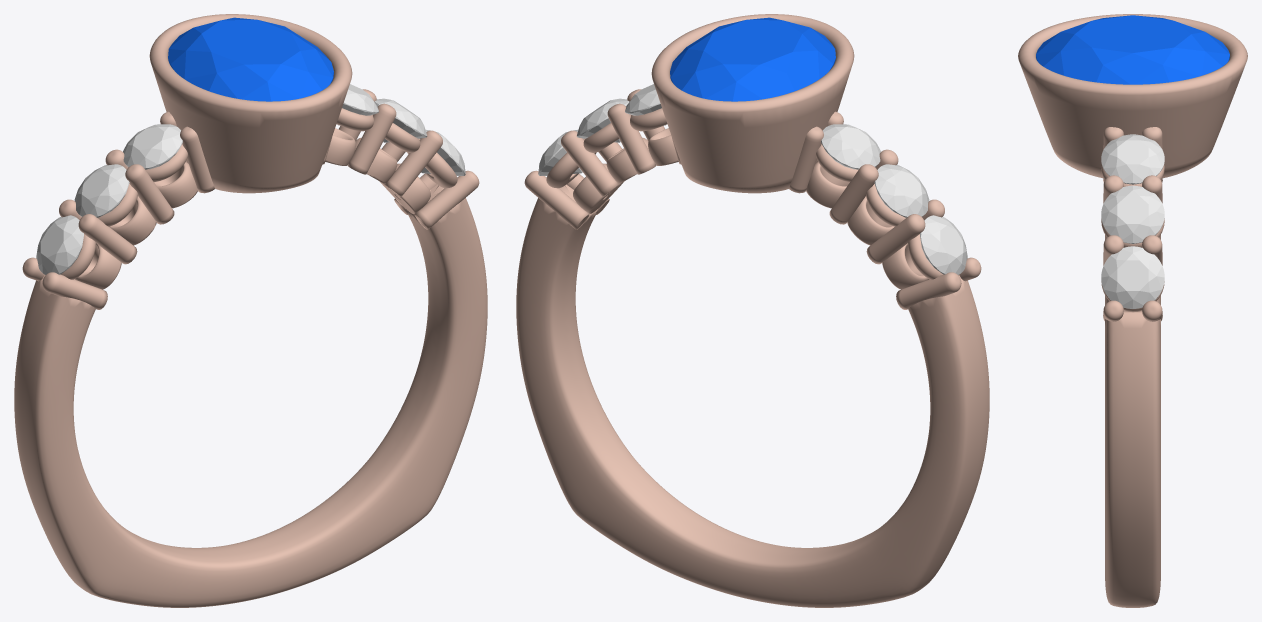
The model's file is bluesapphire-oval-rosegold-bezelset-europeanshank-7stone.glb.
3 views of the same model, side by side, from view 1: azimuth 30°, elevation 25°; view 2: azimuth 150°, elevation 25°; view 3: azimuth 270°, elevation 25° (orthographic). The views are drawn at different scales.
Visible parts, largest first — view 1: metal, stone.002, side.018, side.019, side.020, side.022, side.023, side.021; view 2: metal, stone.002, side.018, side.019, side.020, side.022, side.023, side.021; view 3: metal, stone.002, side.021, side.022, side.023.
Part boxes in pixels (left/top/right/bottom): metal: left=14, top=14, right=487, bottom=607; stone.002: left=168, top=17, right=333, bottom=101; side.018: left=36, top=215, right=83, bottom=274; side.019: left=74, top=164, right=129, bottom=217; side.020: left=123, top=124, right=182, bottom=169; side.022: left=374, top=98, right=427, bottom=142; side.023: left=338, top=84, right=378, bottom=125; side.021: left=420, top=130, right=465, bottom=175; metal: left=516, top=14, right=989, bottom=607; stone.002: left=670, top=17, right=835, bottom=101; side.018: left=920, top=215, right=967, bottom=274; side.019: left=874, top=164, right=929, bottom=217; side.020: left=821, top=124, right=880, bottom=169; side.022: left=576, top=98, right=629, bottom=142; side.023: left=625, top=84, right=665, bottom=125; side.021: left=538, top=130, right=583, bottom=175; metal: left=1018, top=14, right=1247, bottom=607; stone.002: left=1036, top=15, right=1229, bottom=84; side.021: left=1101, top=246, right=1164, bottom=308; side.022: left=1101, top=185, right=1164, bottom=243; side.023: left=1101, top=134, right=1164, bottom=184.
Size of the model in its own units: 20.1 by 23.2 by 9.04.
